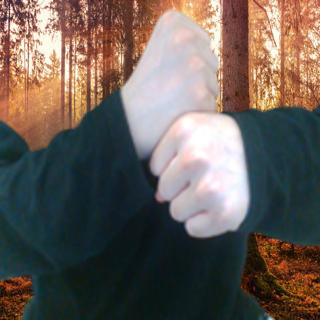CAREFUL: (119, 3, 252, 246)
